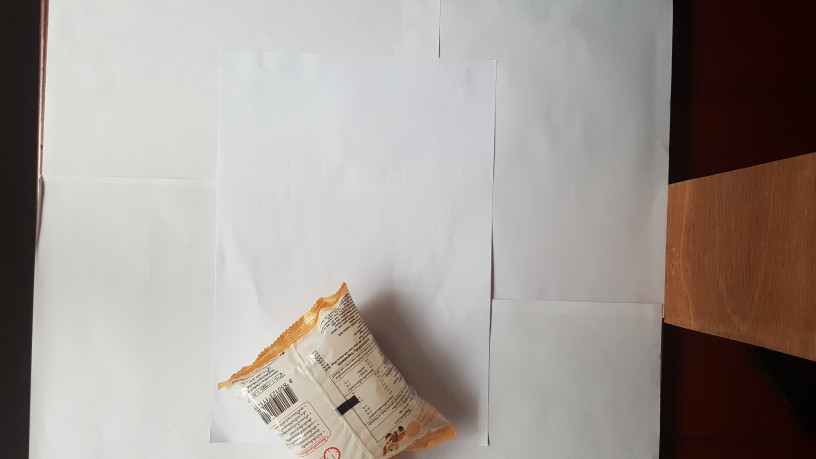farmhouse-sweetsandwich-almond: (213, 278, 466, 459)
